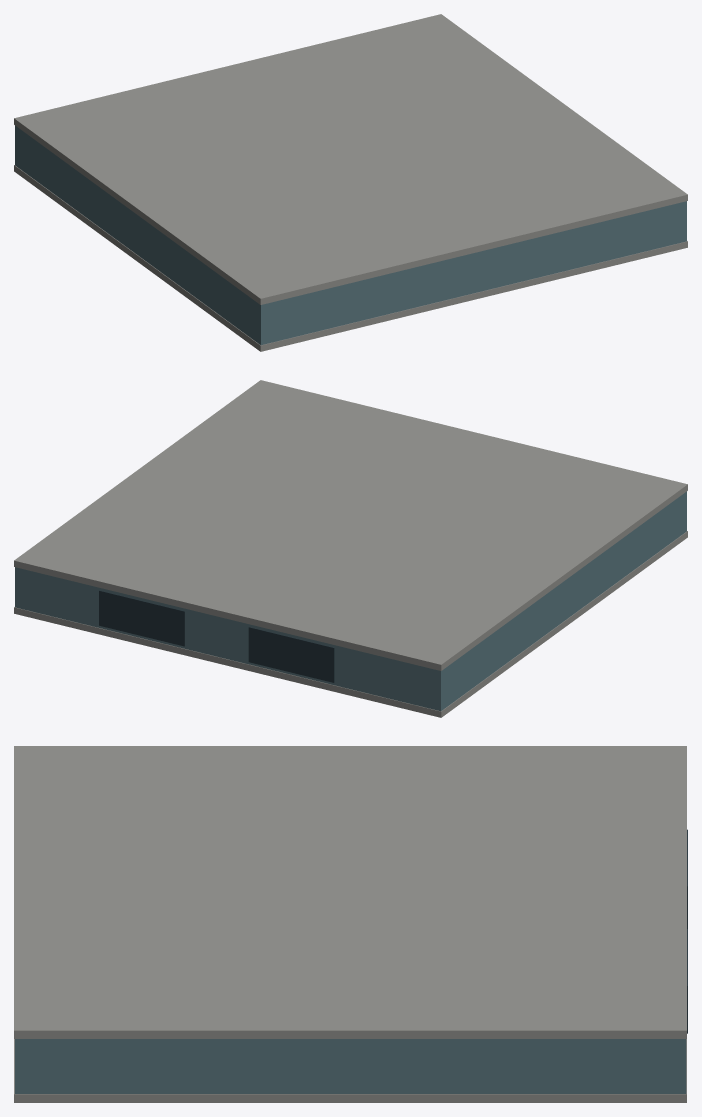
File: tw_glass_32_floor_b_lod1.glb
3 views of the same model, one above another, from view 1: azimuth 30°, elevation 25°; view 2: azimuth 150°, elevation 25°; view 3: azimuth 270°, elevation 25° (orthographic). The views are drawn at different scales.
Visible parts, largest first — view 1: tw_glass_32_floor_b_lod1; view 2: tw_glass_32_floor_b_lod1; view 3: tw_glass_32_floor_b_lod1.
Boxes of the visible parts, left/top/right/bottom form: tw_glass_32_floor_b_lod1: left=14, top=14, right=687, bottom=351; tw_glass_32_floor_b_lod1: left=14, top=380, right=687, bottom=717; tw_glass_32_floor_b_lod1: left=14, top=746, right=687, bottom=1102.
Size of the model in its own units: 32 by 3.8 by 32.04.
Materials: 2 (2 with a texture image).
